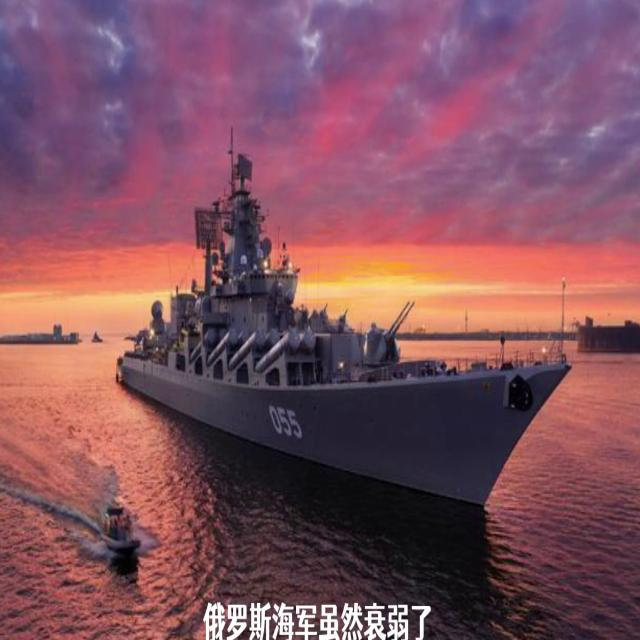houseboat: (101, 500, 139, 558)
navalvessels: (116, 150, 572, 511)
